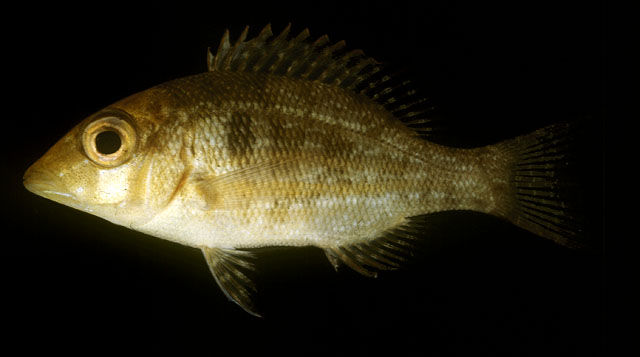fish: (22, 27, 574, 318)
